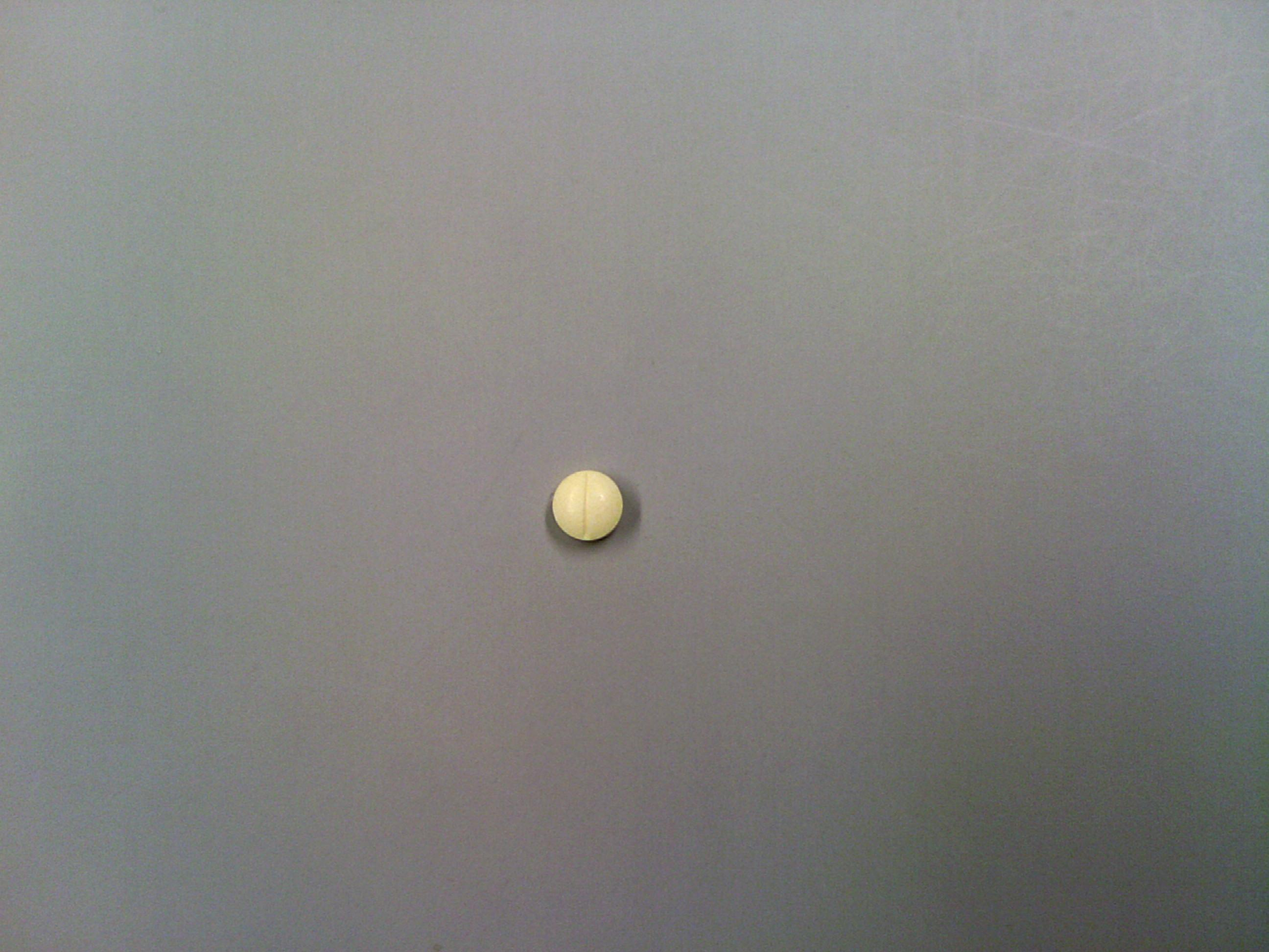Pill: (542, 460, 635, 553)
